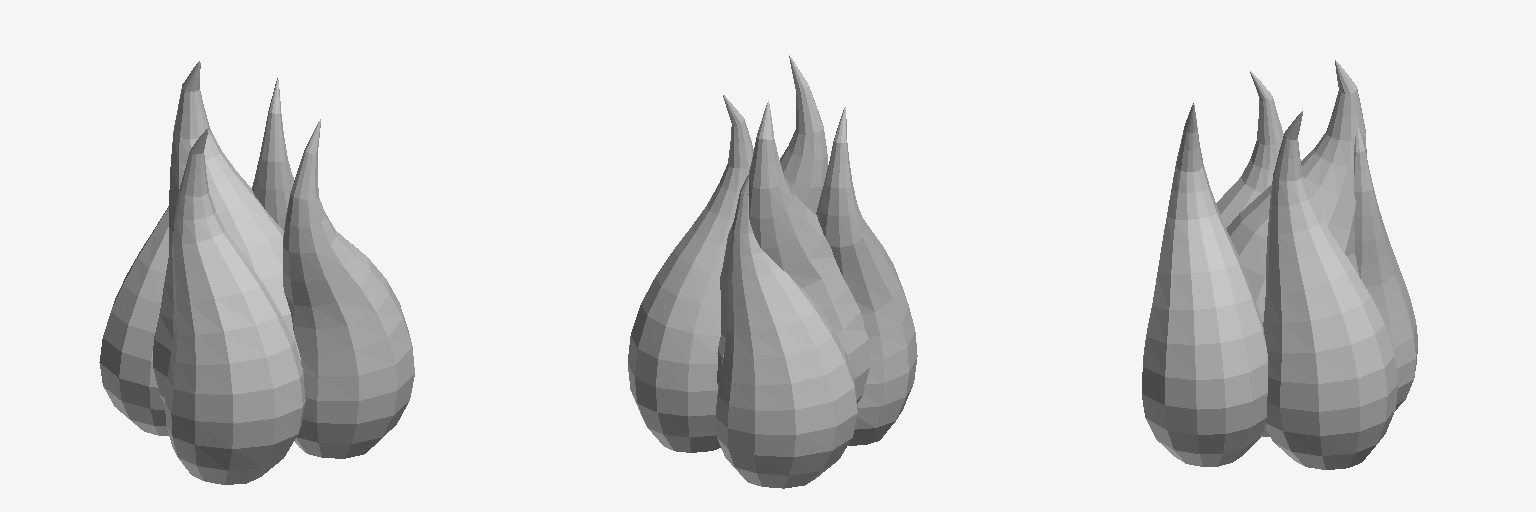
Rendered from fire_000002.obj.
The picture shows the model from 3 angles: view 1: azimuth 30°, elevation 25°; view 2: azimuth 150°, elevation 25°; view 3: azimuth 270°, elevation 25°; orthographic projection.
Parts seen in each view (by area): view 1: flame_NurbsPath.015; view 2: flame_NurbsPath.015; view 3: flame_NurbsPath.015.
Part boxes in pixels (left/top/right/bottom): flame_NurbsPath.015: left=99, top=61, right=414, bottom=484; flame_NurbsPath.015: left=628, top=55, right=917, bottom=488; flame_NurbsPath.015: left=1142, top=60, right=1417, bottom=469.
Size of the model in its own units: 0.7548 by 1.16 by 0.7987.